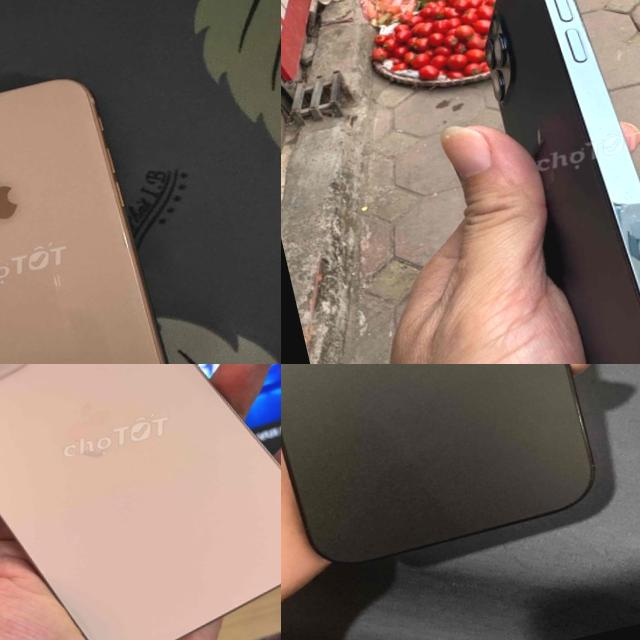gen_12_13: (438, 0, 640, 364)
gen_14: (281, 364, 624, 592)
gen_16: (0, 364, 281, 640)
gen_7_8: (0, 60, 196, 364)
scratch: (110, 196, 156, 323), (45, 266, 69, 290)
